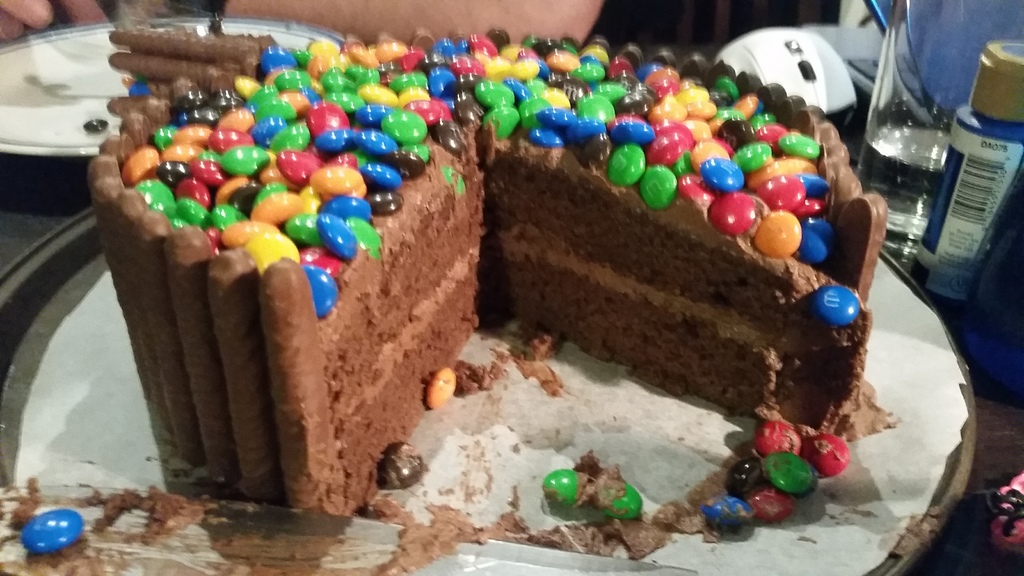cake: (86, 28, 890, 518)
